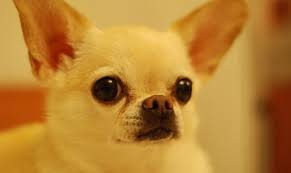chihuahua: (9, 1, 257, 169)
